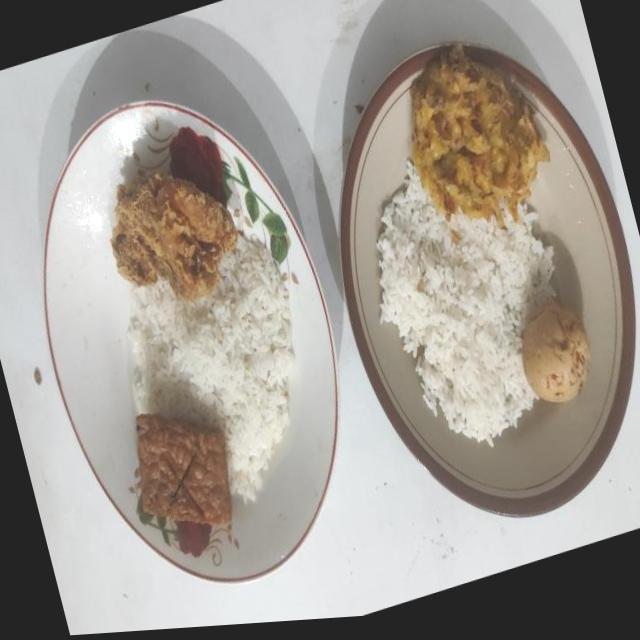nasi_putih: (376, 160, 554, 446), (128, 236, 294, 502)
tempe_goreng: (136, 414, 232, 525)
